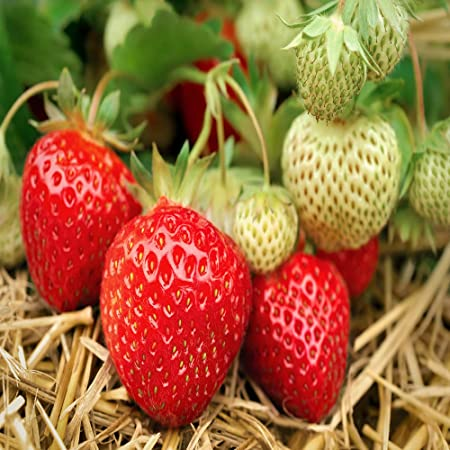ripe: (99, 202, 254, 438), (13, 122, 138, 316), (256, 254, 358, 427), (165, 10, 260, 151), (232, 179, 305, 279)
unripe: (277, 106, 407, 252), (288, 25, 375, 111), (407, 100, 449, 254), (334, 4, 414, 83)
